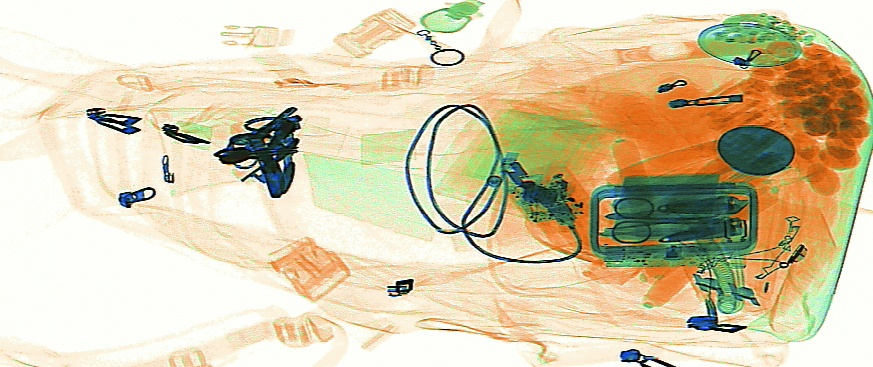scissors: (600, 187, 743, 243)
